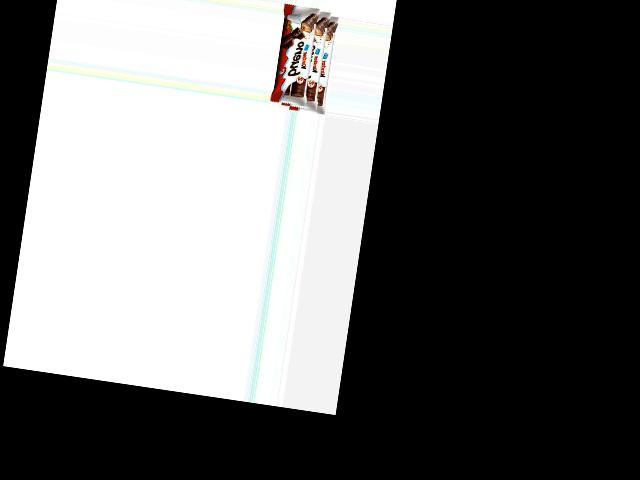chocolate: (268, 5, 339, 114)
